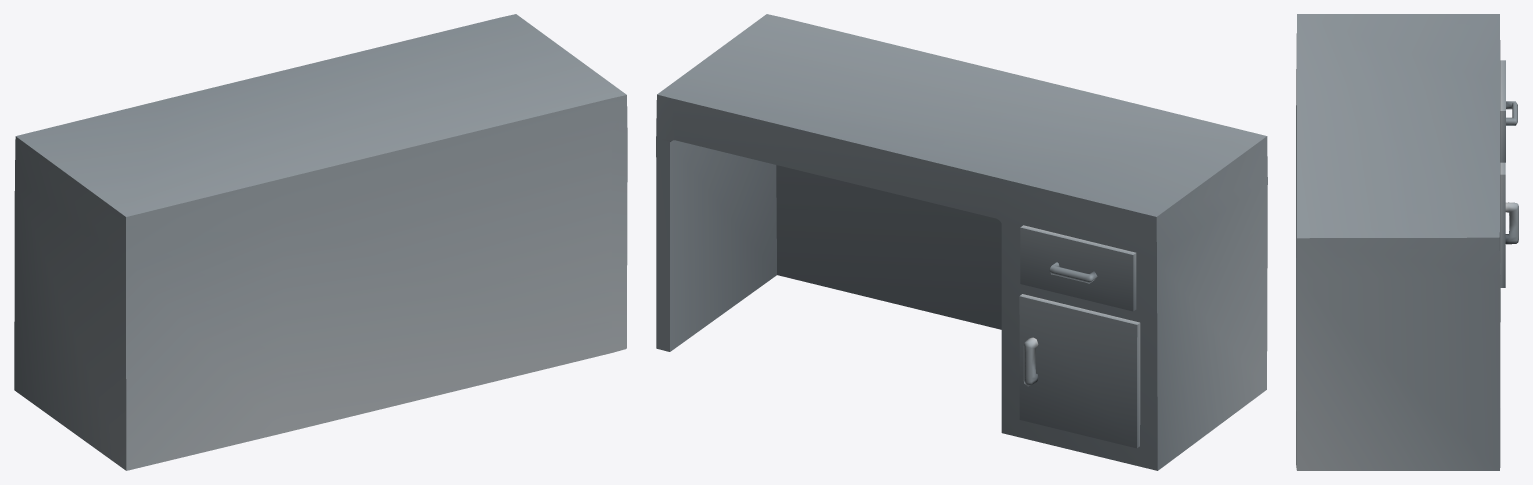
File: mesh_maindesk_LOD1.fbx
The picture shows the model from 3 angles, left to right: view 1: azimuth 30°, elevation 25°; view 2: azimuth 150°, elevation 25°; view 3: azimuth 270°, elevation 25°; orthographic projection. The views are drawn at different scales.
Parts seen in each view (by area): view 1: Desk.003; view 2: Desk.003; view 3: Desk.003.
Boxes of the visible parts, bbox=[...] form: Desk.003: bbox=[14, 14, 627, 470]; Desk.003: bbox=[656, 14, 1267, 470]; Desk.003: bbox=[1296, 14, 1518, 470].
Size of the model in its own units: 349 by 169 by 146.
